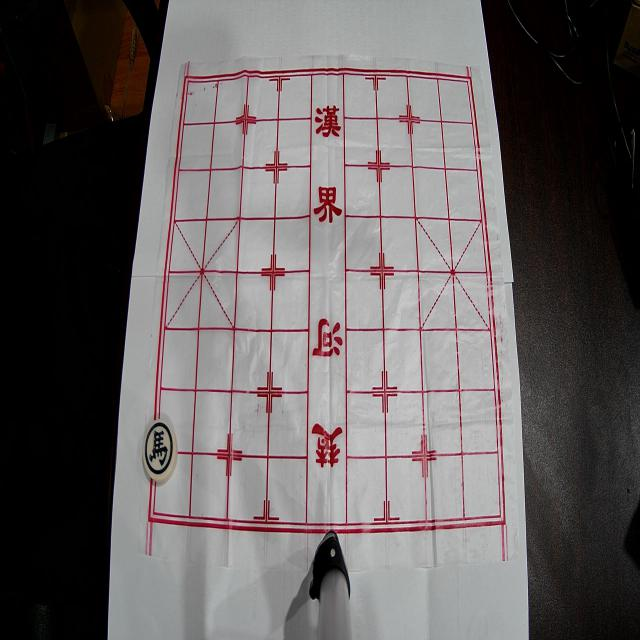black-horse: (142, 419, 178, 483)
